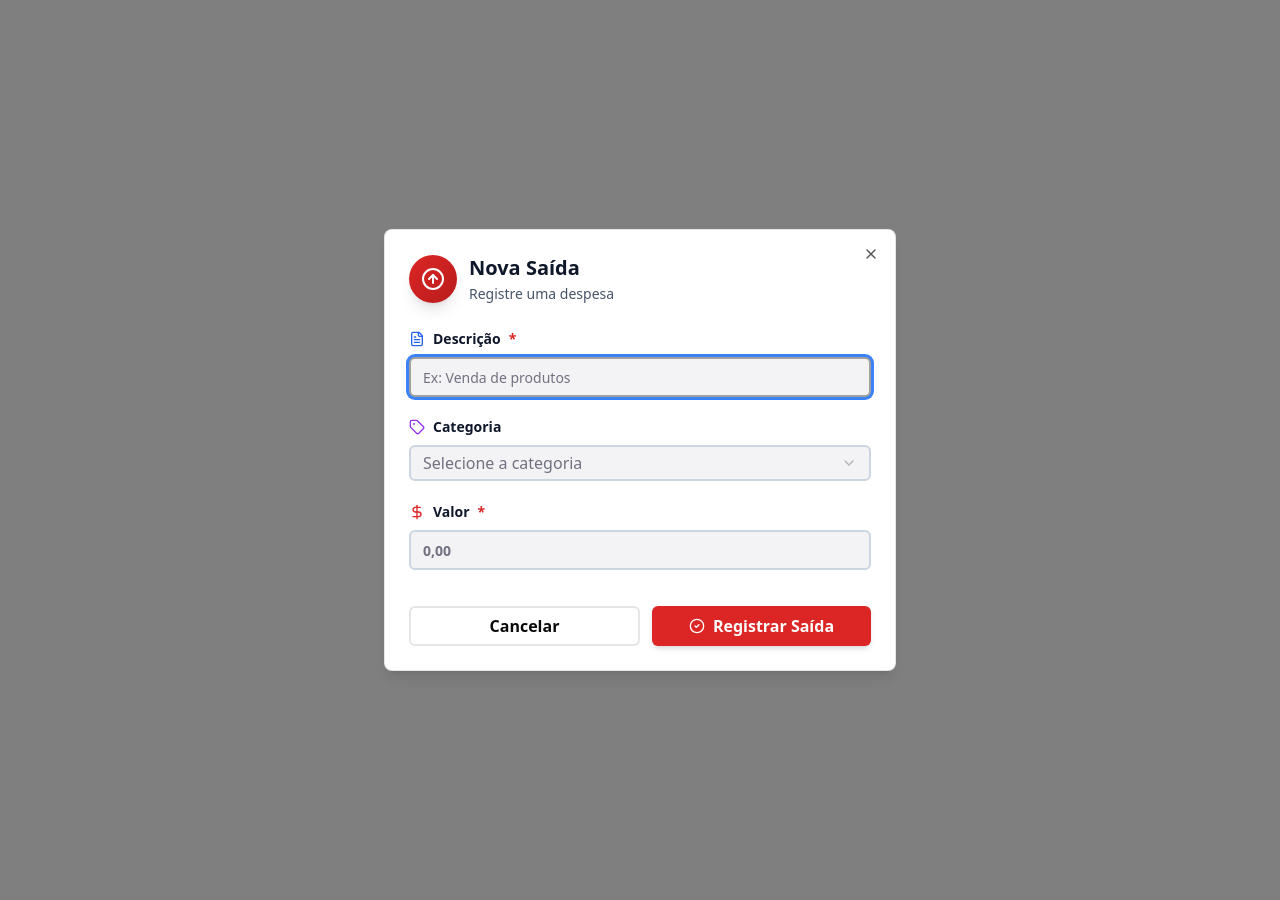
NewTransactionDialog › Campos do formulário › exibe categorias de saída quando type é expense
Click the dropdown.
click(503, 463)  # box [409,445,871,481]
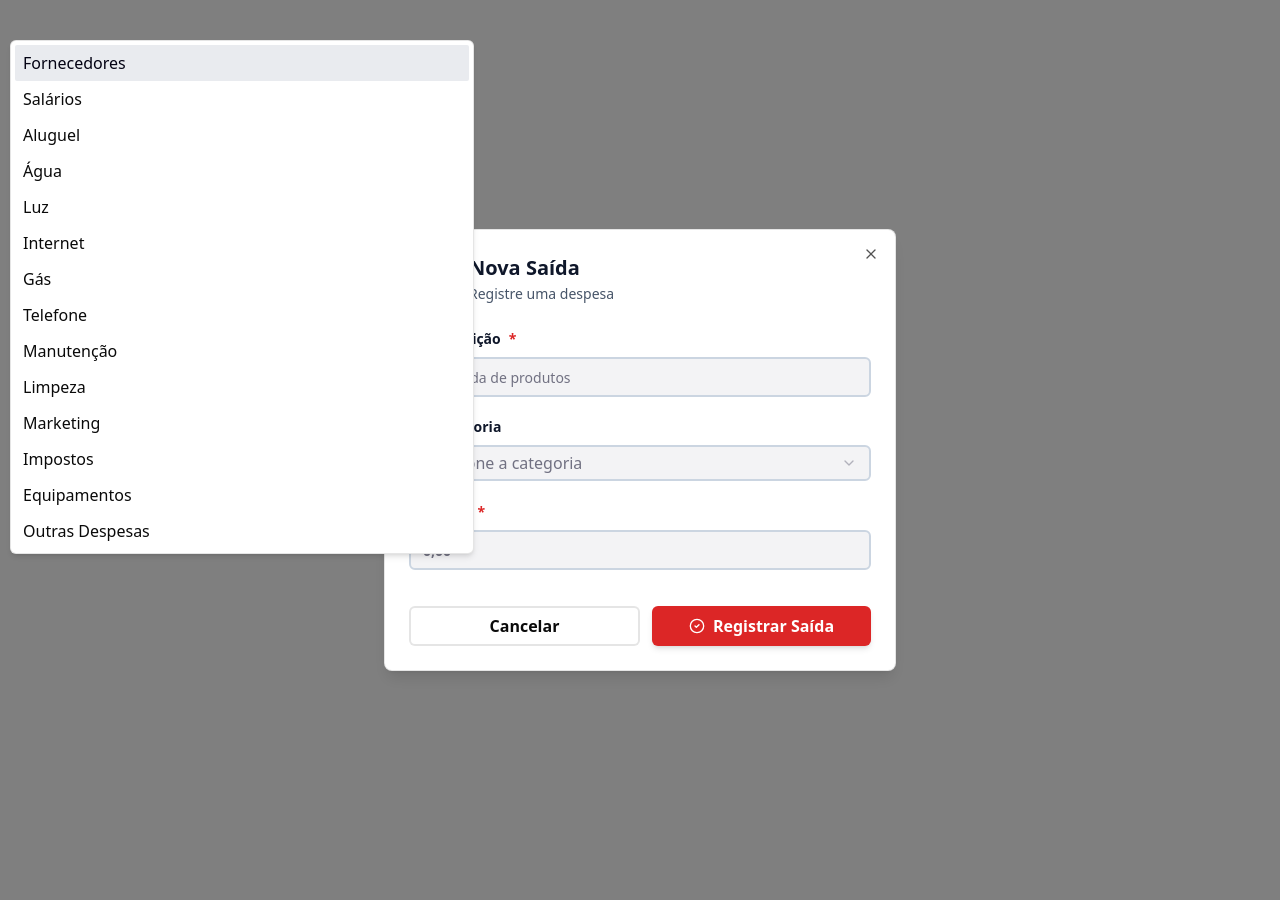
expect the text "Fornecedores" is shown: met, box [23,51,126,75]
expect the text "Salários" is shown: met, box [23,87,82,111]
expect the text "Aluguel" is shown: met, box [23,123,80,147]
